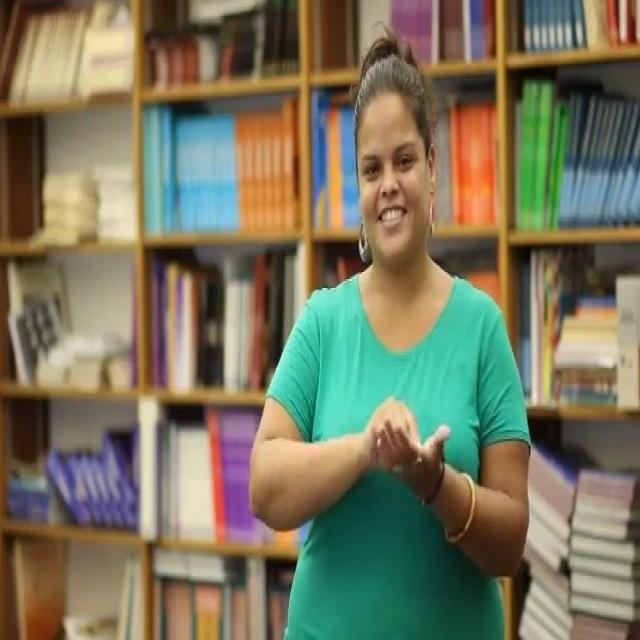chicken: (354, 360, 456, 518)
